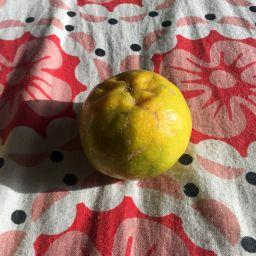Ripe: (82, 73, 191, 179)
